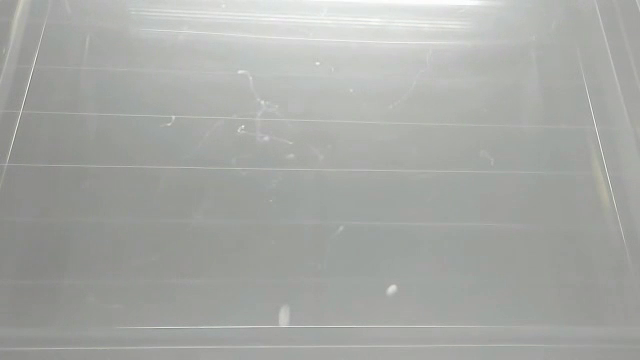alpha: (274, 301, 297, 330), (383, 281, 399, 299)
